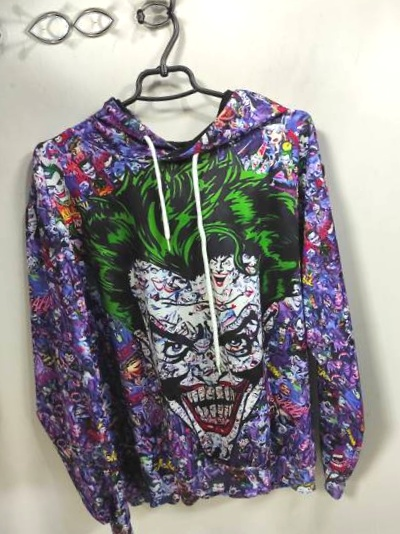Hoodie: (0, 37, 400, 528), (0, 89, 4, 534)
